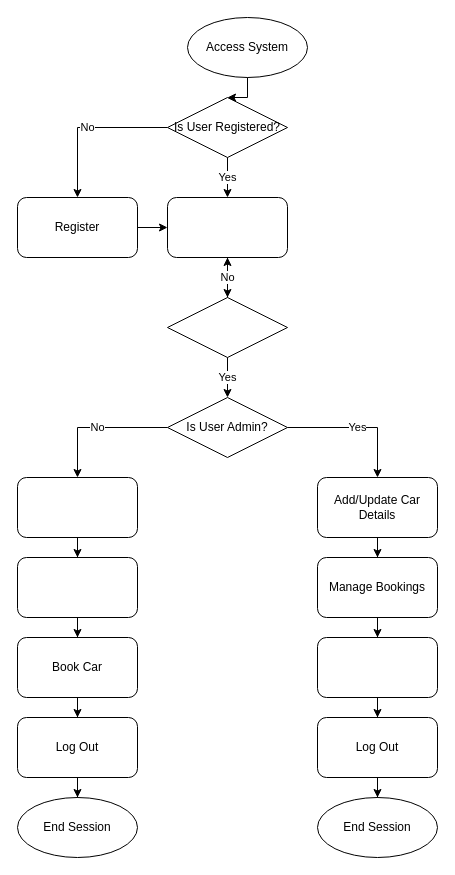
Image size: 455x875. Some labels were removed from this diagram. Here are the shapes that lost their labels. From the top down, the box of each, then its label:
(166, 196, 288, 258): Login
(166, 296, 288, 358): Are Credentials Valid?
(16, 476, 138, 538): Add Location
(16, 556, 138, 618): Choose Nearby Car
(316, 636, 438, 698): Maintain System
